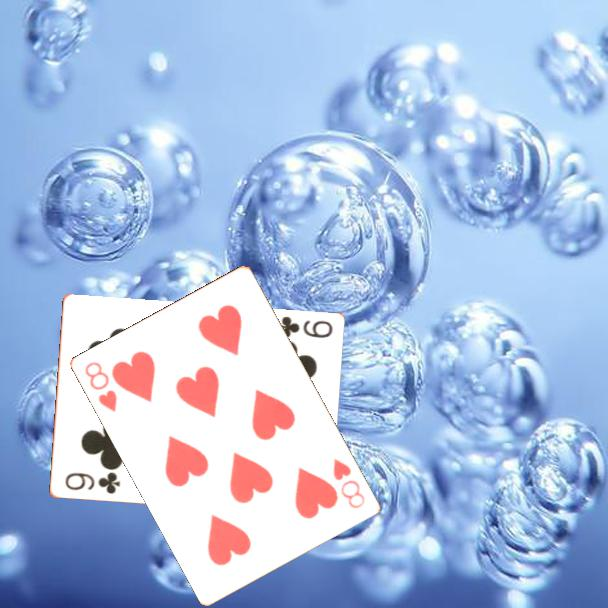c09: (273, 313, 335, 341), (61, 469, 122, 497)
h08: (330, 455, 368, 512), (82, 358, 120, 415)
